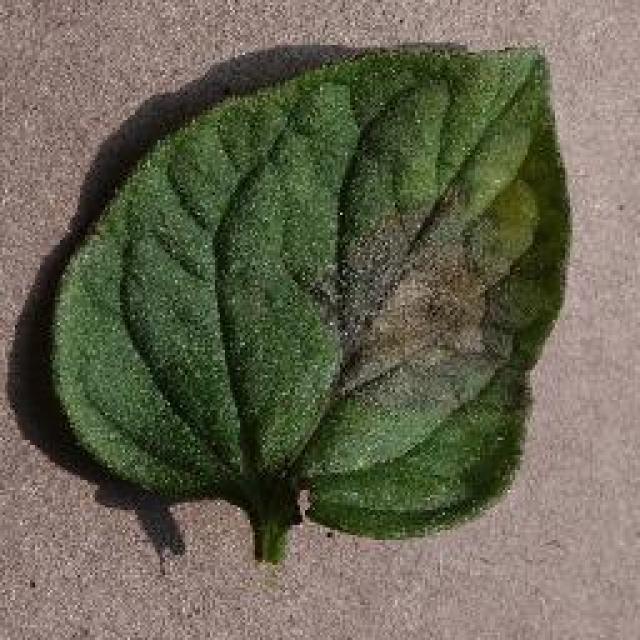Tomato Late Blight: (238, 165, 500, 422)
